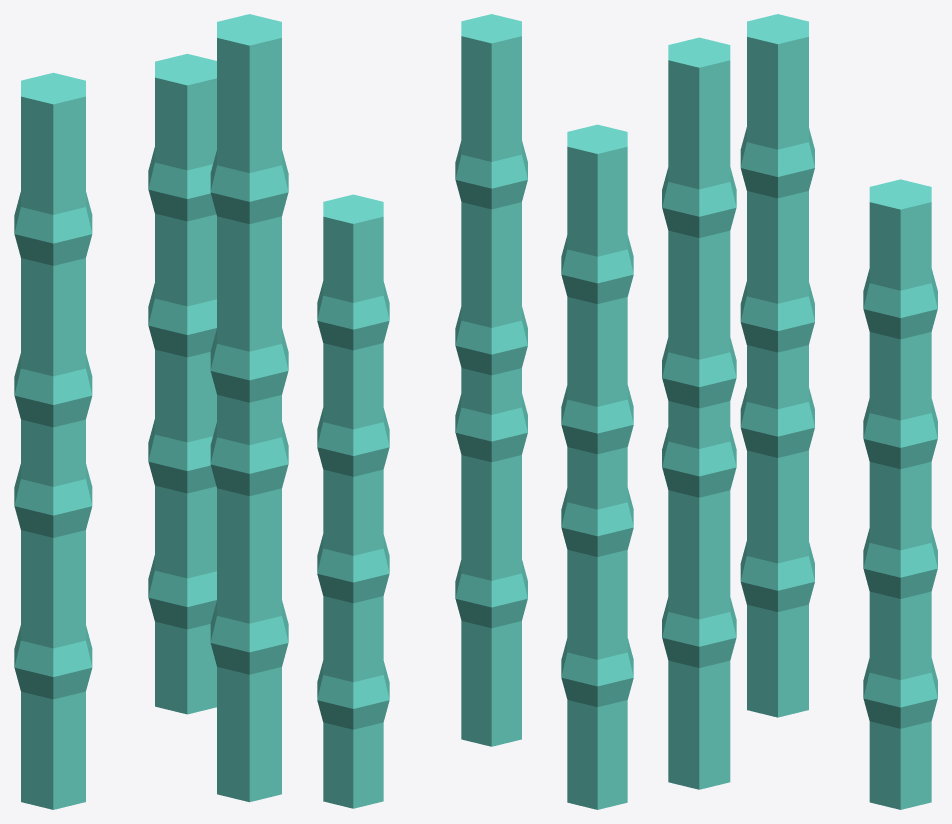
The picture shows the model from 3 angles, left to right: view 1: azimuth 30°, elevation 25°; view 2: azimuth 150°, elevation 25°; view 3: azimuth 270°, elevation 25°; orthographic projection. The views are drawn at different scales.
Parts seen in each view (by area): view 1: crops_bambooStageB; view 2: crops_bambooStageB; view 3: crops_bambooStageB.
Part boxes in pixels (x1,y1,x2,y2): crops_bambooStageB: [14, 14, 288, 809]; crops_bambooStageB: [317, 14, 633, 809]; crops_bambooStageB: [662, 14, 937, 809].
Size of the model in its own units: 0.3401 by 0.89 by 0.308.
